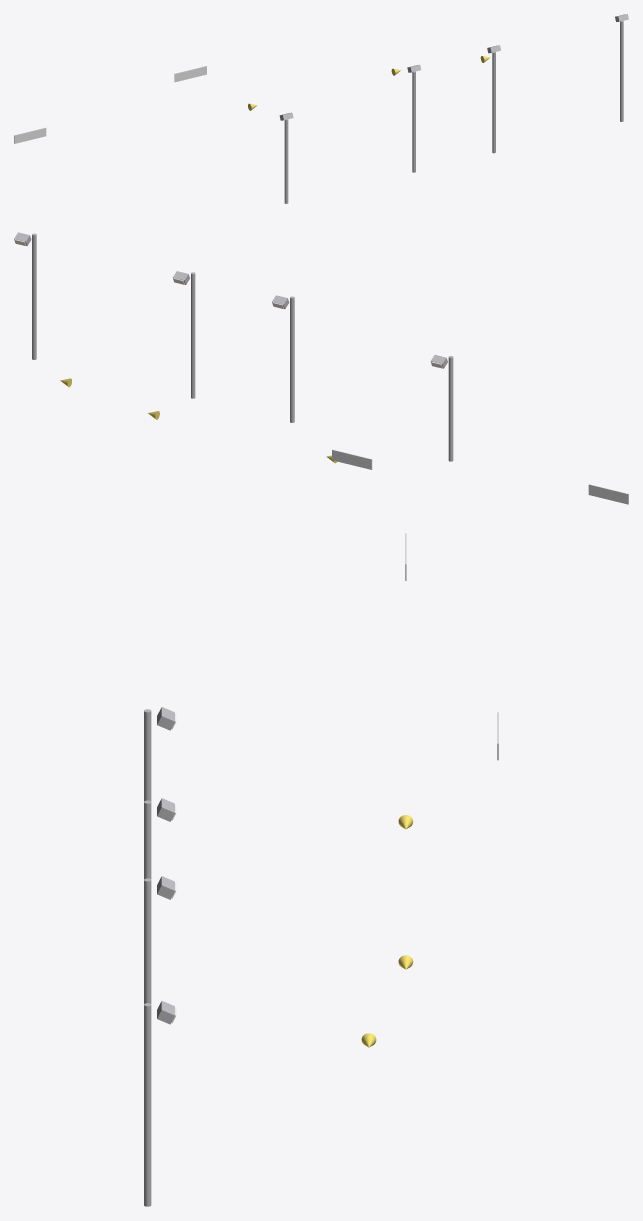
Rendered from Plant-Accessories.fbx.
3 views of the same model, one above another, from view 1: azimuth 30°, elevation 25°; view 2: azimuth 150°, elevation 25°; view 3: azimuth 270°, elevation 25° (orthographic). The views are drawn at different scales.
Parts seen in each view (by area): view 1: ACC_Floodlight_Pole_0, ACC_Floodlight_Pole_2, ACC_Floodlight_Pole_1, ACC_Floodlight_Pole_3, ACC_Sign_Stage1, ACC_Sign_Stage2; view 2: ACC_Floodlight_Pole_1, ACC_Floodlight_Pole_2, ACC_Floodlight_Pole_3, ACC_Floodlight_Pole_0, ACC_Sign_Stage2, ACC_Sign_Stage1; view 3: ACC_Floodlight_Pole_3, ACC_Floodlight_Pole_2.
Part boxes in pixels (x1,y1,x2,y2): ACC_Floodlight_Pole_0: [284, 118, 288, 203]; ACC_Floodlight_Pole_2: [492, 51, 495, 153]; ACC_Floodlight_Pole_1: [412, 71, 415, 172]; ACC_Floodlight_Pole_3: [620, 20, 623, 121]; ACC_Sign_Stage1: [14, 127, 46, 143]; ACC_Sign_Stage2: [174, 66, 206, 82]; ACC_Floodlight_Pole_1: [290, 296, 294, 422]; ACC_Floodlight_Pole_2: [191, 272, 195, 398]; ACC_Floodlight_Pole_3: [32, 233, 36, 359]; ACC_Floodlight_Pole_0: [448, 356, 453, 461]; ACC_Sign_Stage2: [332, 449, 372, 469]; ACC_Sign_Stage1: [588, 484, 628, 504]; ACC_Floodlight_Pole_3: [144, 1003, 151, 1206]; ACC_Floodlight_Pole_2: [144, 878, 151, 1003].
Bounding box in the file's own units: 3460 × 612 × 963.
